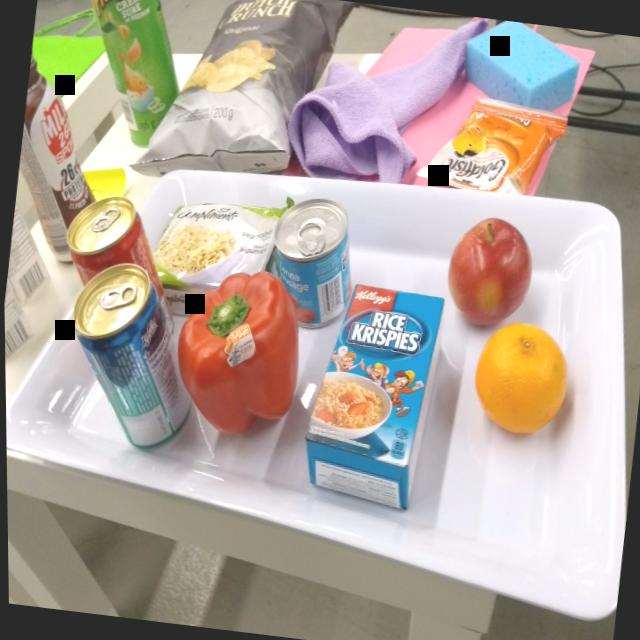apple: (435, 212, 542, 333)
cereal: (290, 278, 451, 514)
crackers: (412, 85, 574, 205)
noodles: (147, 189, 285, 295)
orange: (463, 313, 579, 444)
paprika: (162, 262, 313, 447)
sausages: (259, 189, 366, 338)
sprite: (53, 262, 210, 459)
